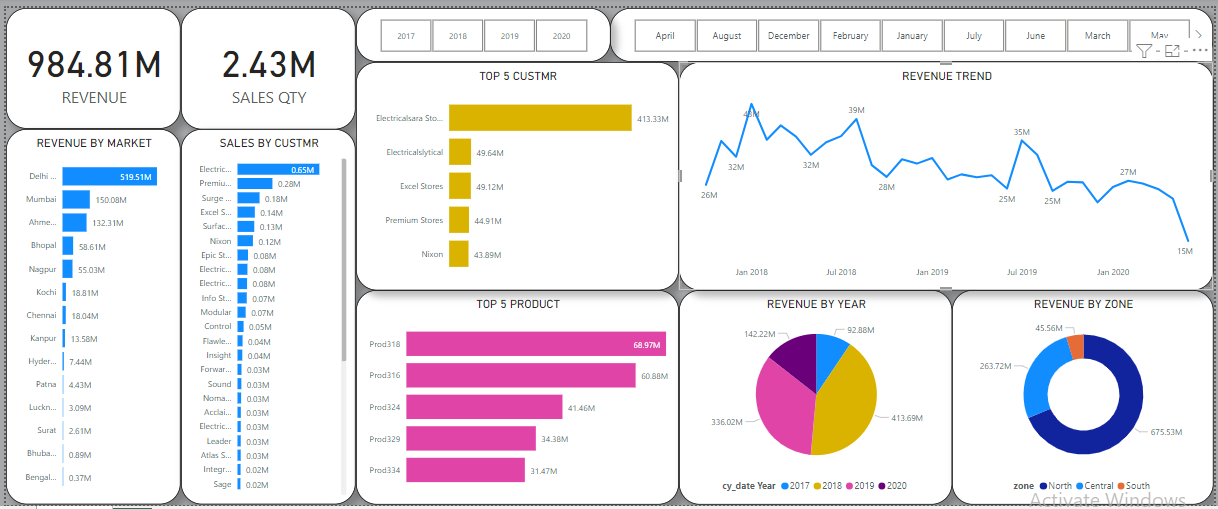

This screenshot's page, from the dashboard's own definition file:
{"tool":"powerbi","page":{"name":"Page 1","canvas":[1750,720],"ordinal":0},"visuals":[{"type":"card","fields":{"Values":["BaseMeasures.Revenue"]},"box":[0,0,253.3,175.1],"z":0},{"type":"card","fields":{"Values":["BaseMeasures.sales qty"]},"box":[253.4,0,253.4,175.7],"z":1000},{"type":"barChart","title":"REVENUE BY MARKET","fields":{"Y":["BaseMeasures.Revenue"],"Category":["sales markets.markets_name"]},"box":[0,175.7,253.4,544.3],"z":2000},{"type":"barChart","title":"SALES BY CUSTMR","fields":{"Y":["BaseMeasures.sales qty"],"Category":["sales customers.custmer_name"]},"box":[253.4,175.7,253.4,544.3],"z":3000},{"type":"slicer","title":"Year","fields":{"Values":["sales date.month_name"]},"box":[875.5,0,874.1,77.8],"z":4000},{"type":"slicer","title":"Year","fields":{"Values":["sales date.year"]},"box":[506.9,0,368.6,77.8],"z":5000},{"type":"barChart","title":"TOP 5 PRODUCT","fields":{"Y":["BaseMeasures.Revenue"],"Category":["sales transactions.product_code"]},"box":[506.9,409,468,311],"z":6000},{"type":"barChart","title":"TOP 5 CUSTMR","fields":{"Y":["BaseMeasures.Revenue"],"Category":["sales customers.custmer_name"]},"box":[506.9,77.8,468,331.2],"z":7000},{"type":"lineChart","title":"REVENUE TREND","fields":{"Y":["BaseMeasures.REVENUE"],"Category":["sales date.cy_date"]},"box":[974.9,77.8,774.7,331.2],"z":8000},{"type":"pieChart","title":"REVENUE BY YEAR","fields":{"Category":["sales date.cy_date.Variation.Date Hierarchy.Year","sales date.cy_date.Variation.Date Hierarchy.Quarter","sales date.cy_date.Variation.Date Hierarchy.Month","sales date.cy_date.Variation.Date Hierarchy.Day"],"Y":["BaseMeasures.REVENUE"]},"box":[974.9,409,396,311],"z":9000},{"type":"donutChart","title":"REVENUE BY ZONE","fields":{"Y":["BaseMeasures.REVENUE"],"Category":["sales markets.zone"]},"box":[1371,409,379,311],"z":10000}]}

Visuals, with their boxes in screenshot pixels (x1, y1, x2, y2):
card - BaseMeasures.Revenue: BBox(3, 6, 177, 127)
card - BaseMeasures.sales qty: BBox(177, 6, 351, 127)
"REVENUE BY MARKET" barChart: BBox(3, 127, 177, 501)
"SALES BY CUSTMR" barChart: BBox(177, 127, 351, 501)
"Year" slicer: BBox(604, 6, 1204, 60)
"Year" slicer: BBox(351, 6, 604, 60)
"TOP 5 PRODUCT" barChart: BBox(351, 287, 672, 501)
"TOP 5 CUSTMR" barChart: BBox(351, 60, 672, 287)
"REVENUE TREND" lineChart: BBox(672, 60, 1204, 287)
"REVENUE BY YEAR" pieChart: BBox(672, 287, 944, 501)
"REVENUE BY ZONE" donutChart: BBox(944, 287, 1204, 501)
